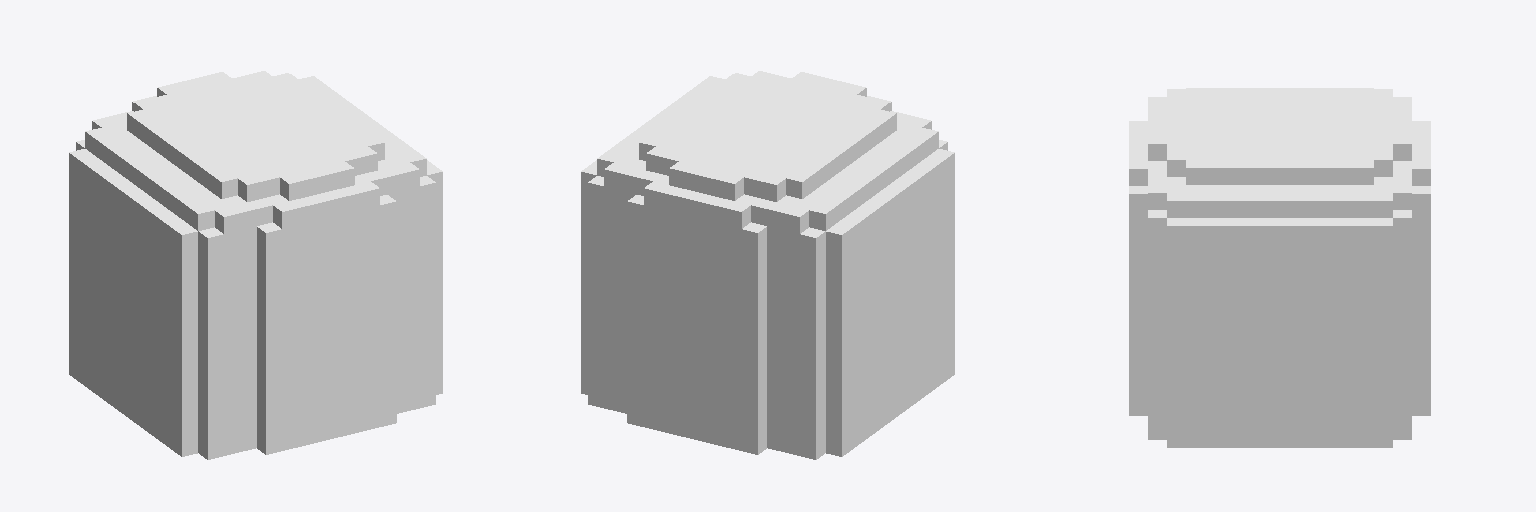
The model's file is GroundBlock.obj.
3 renders of one model, left to right at view 1: azimuth 30°, elevation 25°; view 2: azimuth 150°, elevation 25°; view 3: azimuth 270°, elevation 25°, orthographic.
Visible parts, largest first — view 1: object 1; view 2: object 1; view 3: object 1.
Part boxes in pixels (x1,y1,x2,y2): object 1: (69,71,442,459); object 1: (581,71,954,459); object 1: (1129,88,1430,447).
Size of the model in its own units: 1.6 by 1.5 by 1.6.